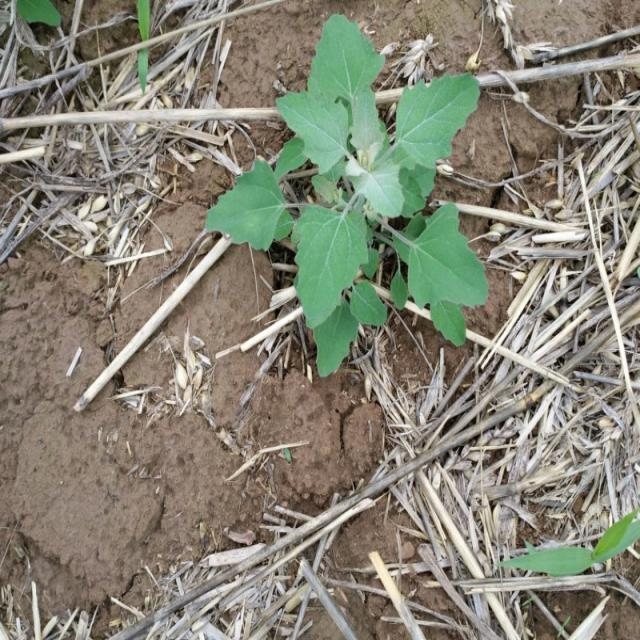goosefoots: (226, 13, 544, 383)
